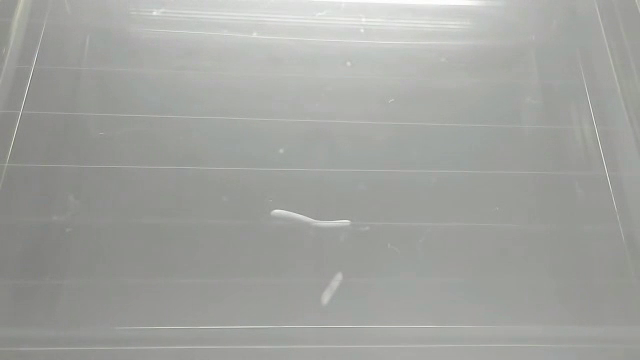alpha: (267, 207, 353, 230), (318, 270, 348, 307)
